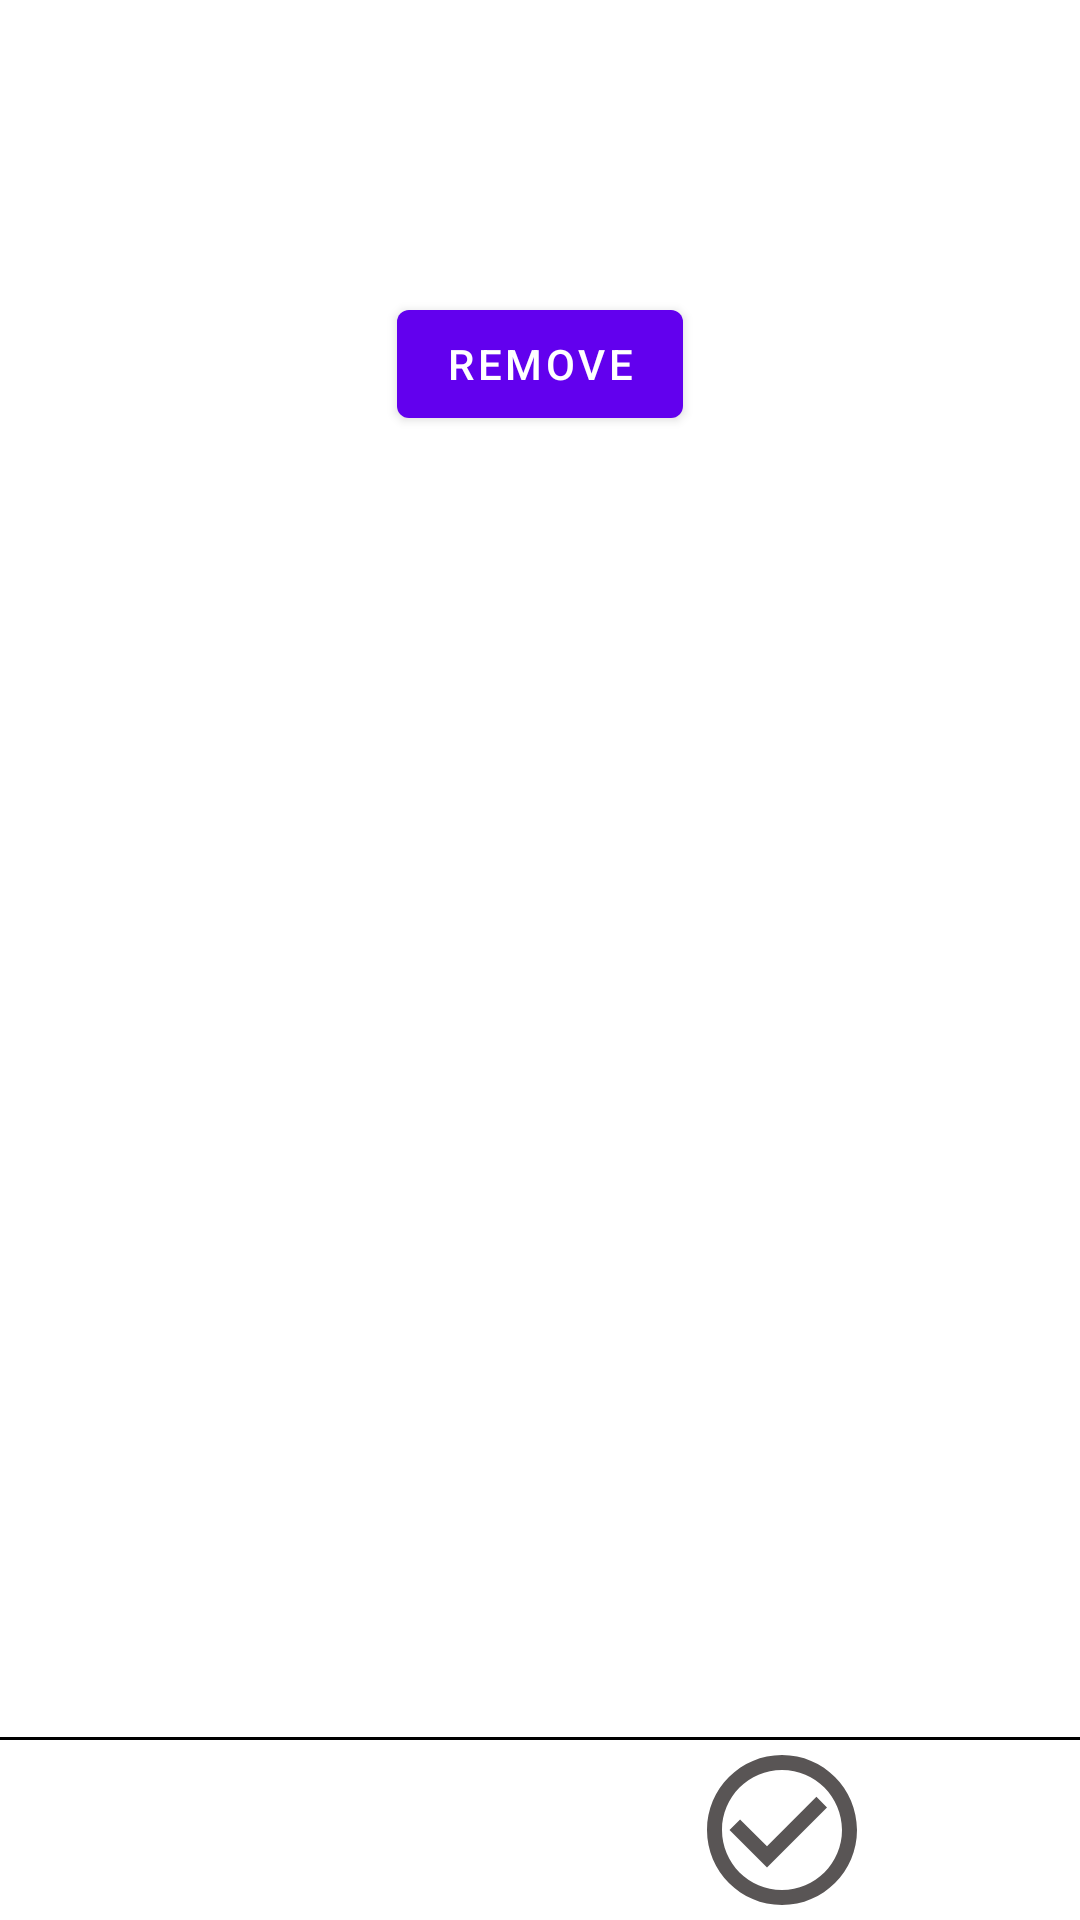

Icon click points for this 1080px x 1920px phone screenshot, format [x,y]:
check circle: [782,1830]
